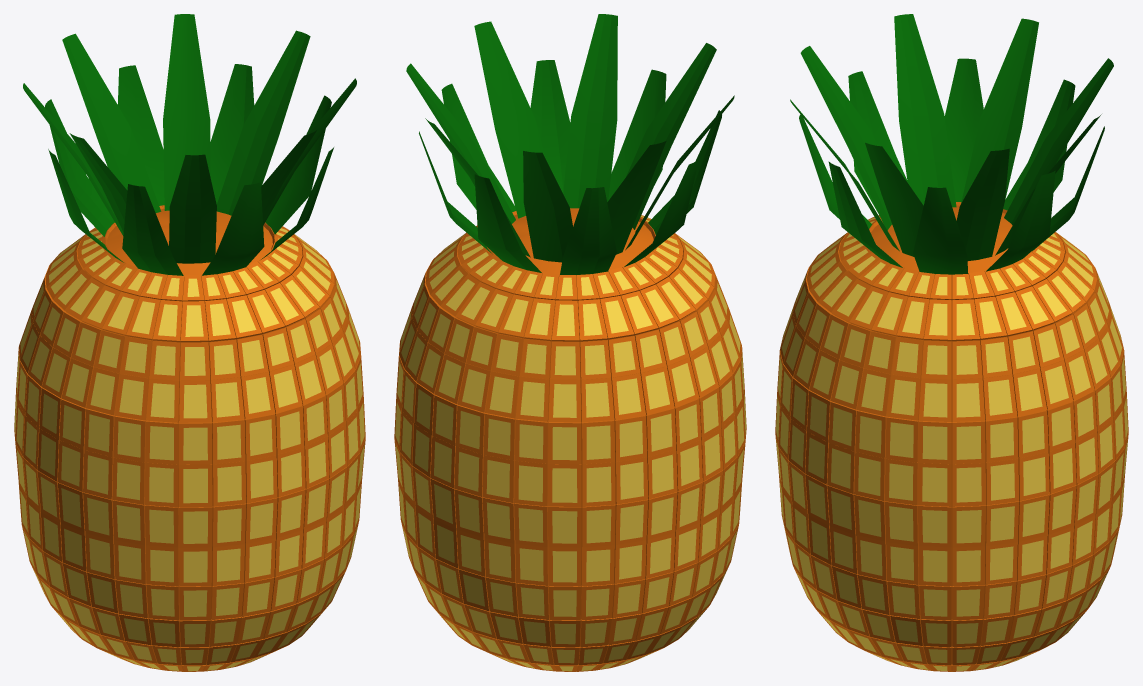
File: Fruit_Pineapple.fbx
3 renders of one model, left to right at view 1: azimuth 30°, elevation 25°; view 2: azimuth 150°, elevation 25°; view 3: azimuth 270°, elevation 25°, orthographic.
Parts seen in each view (by area): view 1: Pineapple; view 2: Pineapple; view 3: Pineapple.
Boxes of the visible parts, left/top/right/bottom form: Pineapple: left=14, top=14, right=365, bottom=671; Pineapple: left=394, top=14, right=746, bottom=671; Pineapple: left=775, top=14, right=1128, bottom=671.
Bounding box in the file's own units: 120 × 212 × 120.
